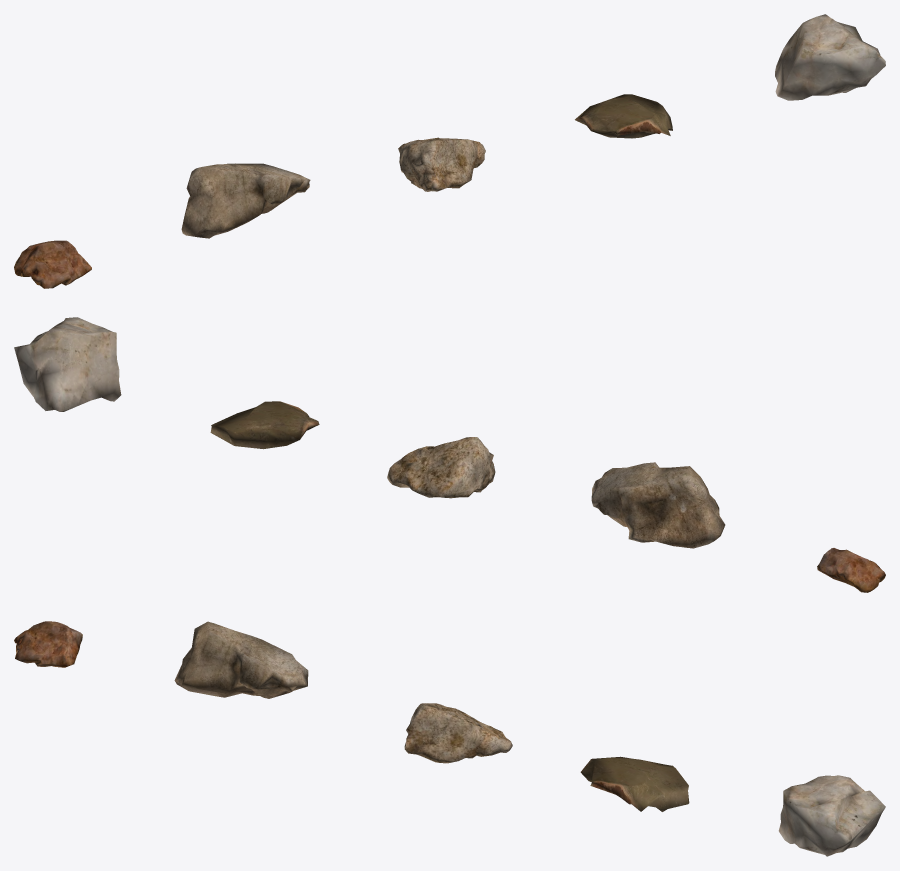
The model's file is stones_a.glb.
The picture shows the model from 3 angles, top to bottom: view 1: azimuth 30°, elevation 25°; view 2: azimuth 150°, elevation 25°; view 3: azimuth 330°, elevation 25°; orthographic projection.
Parts seen in each view (by area): view 1: namaqualand_stones_01_e, namaqualand_stones_01_b, namaqualand_stones_01_c, namaqualand_stones_01_d, namaqualand_stones_01_a; view 2: namaqualand_stones_01_b, namaqualand_stones_01_e, namaqualand_stones_01_c, namaqualand_stones_01_d, namaqualand_stones_01_a; view 3: namaqualand_stones_01_b, namaqualand_stones_01_e, namaqualand_stones_01_c, namaqualand_stones_01_d, namaqualand_stones_01_a.
Part boxes in pixels (<box>): namaqualand_stones_01_e: <box>775,14,885,100</box>; namaqualand_stones_01_b: <box>181,163,310,238</box>; namaqualand_stones_01_c: <box>398,137,485,191</box>; namaqualand_stones_01_d: <box>575,94,672,138</box>; namaqualand_stones_01_a: <box>14,240,91,288</box>; namaqualand_stones_01_b: <box>591,462,725,548</box>; namaqualand_stones_01_e: <box>14,317,121,411</box>; namaqualand_stones_01_c: <box>387,437,495,498</box>; namaqualand_stones_01_d: <box>210,401,319,449</box>; namaqualand_stones_01_a: <box>817,548,885,592</box>; namaqualand_stones_01_b: <box>174,621,308,698</box>; namaqualand_stones_01_e: <box>778,775,885,856</box>; namaqualand_stones_01_c: <box>404,703,512,763</box>; namaqualand_stones_01_d: <box>580,756,689,811</box>; namaqualand_stones_01_a: <box>14,621,82,667</box>.
Size of the model in its own units: 1.02 by 0.0831 by 0.1116.
Materials: 1 (1 with a texture image).
